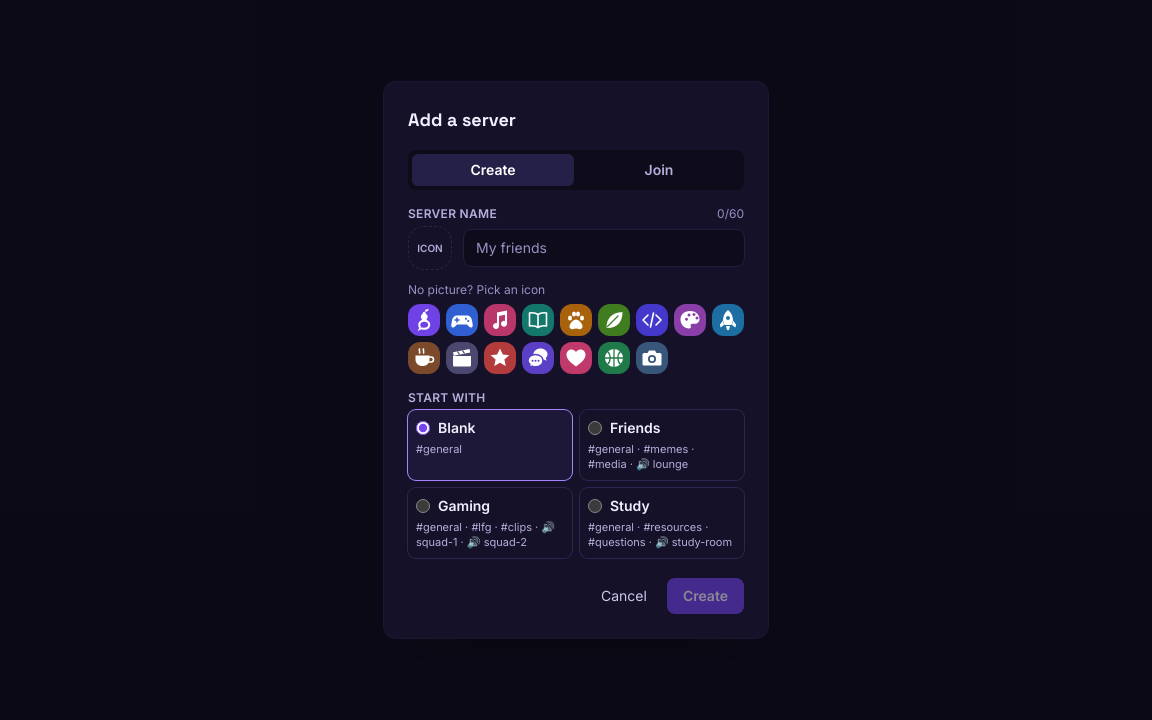
Test: Create: a server error shows in the dialog, which stays open
Type "Tx Check" into the field labelled "Server name" at (604, 248), box [464, 230, 744, 266]
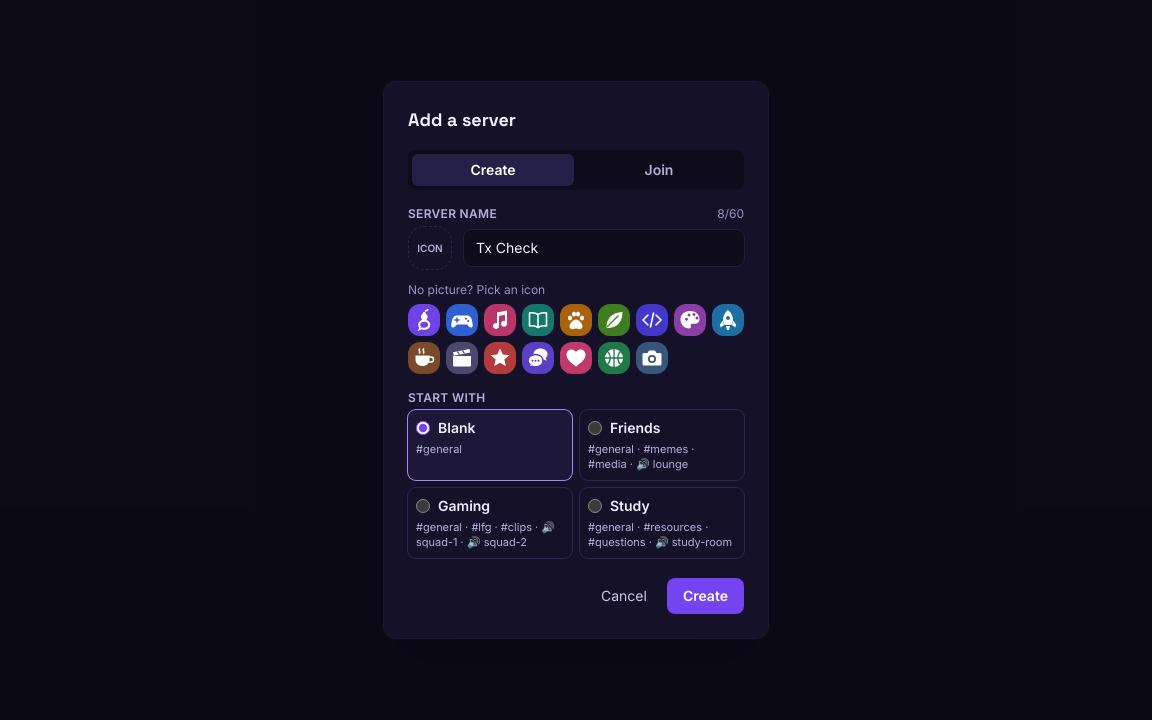
Submit the form "Server name", box [408, 206, 744, 614]
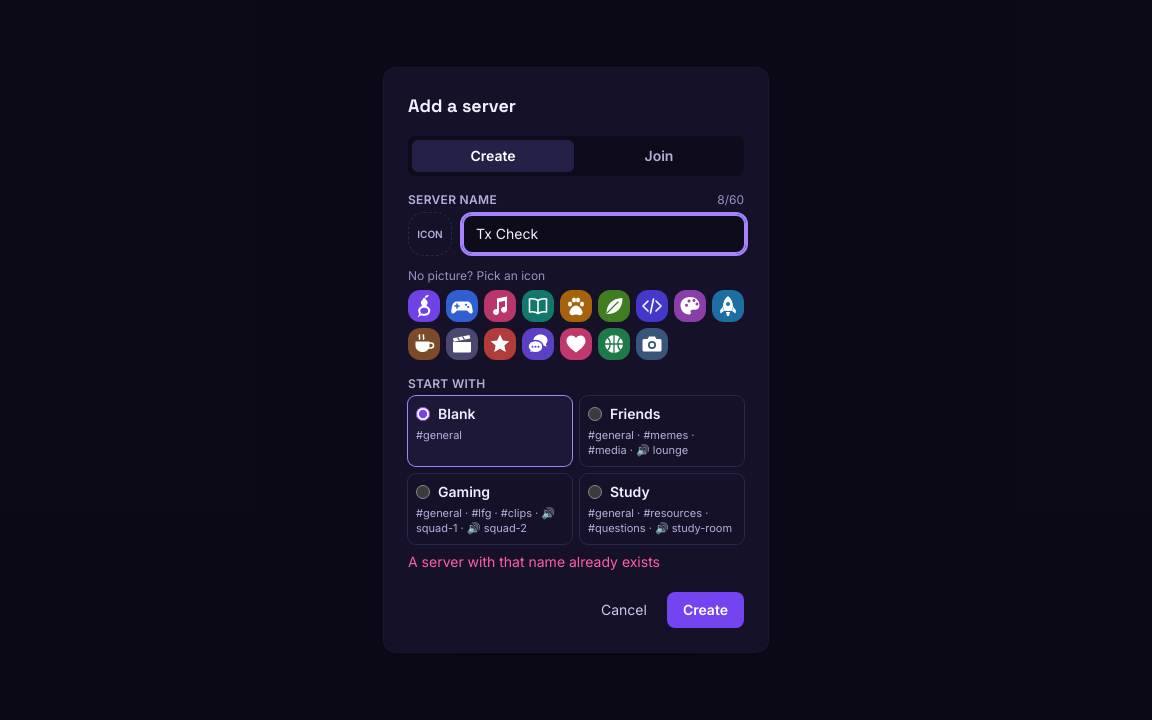
Check: the message reads "A server with that name already exists", box [408, 553, 660, 570]
